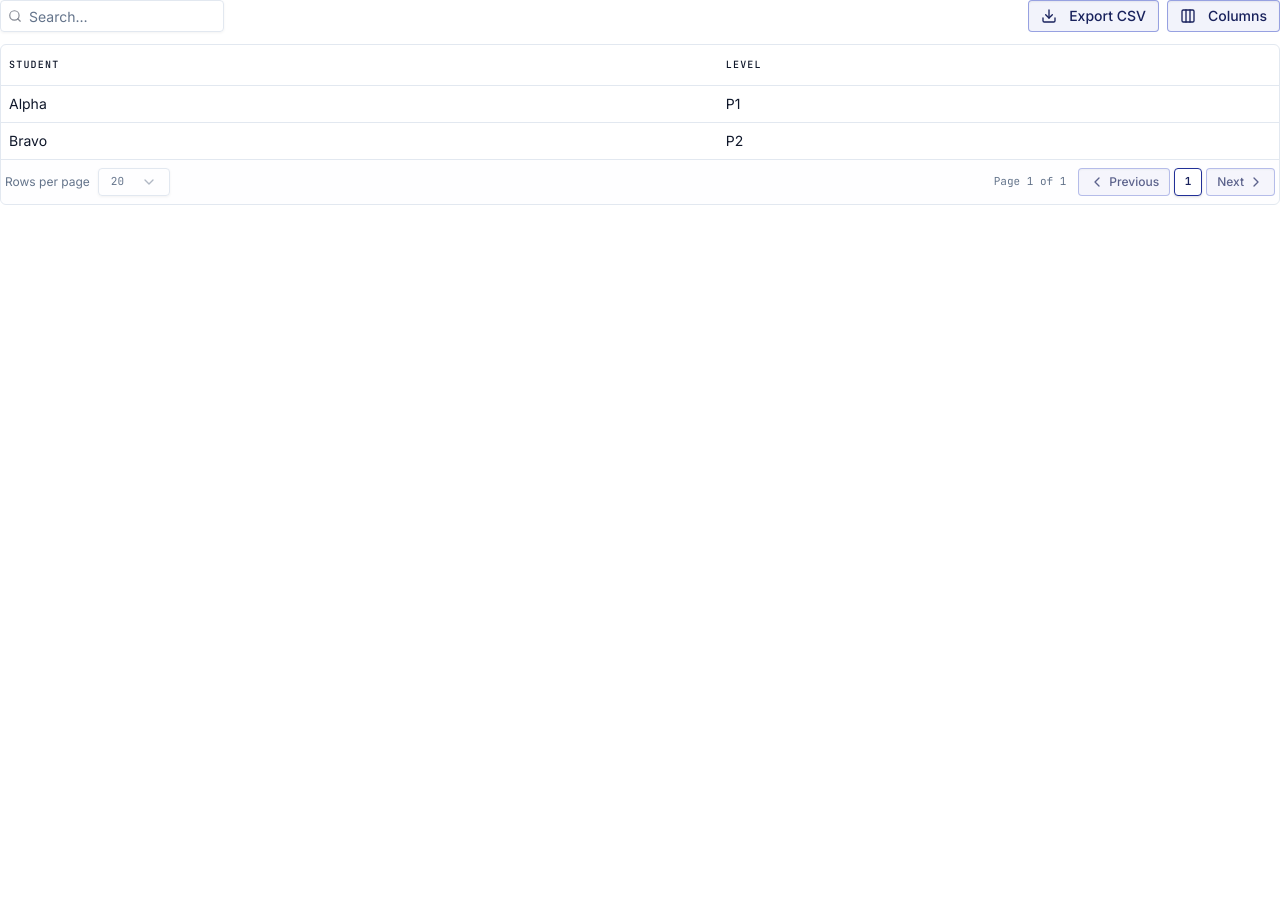
it: advanced export is opt-in › opens the preset radio sheet — not the advanced one — for raw columns without the flag
Click the button "Export CSV" at (1094, 16), box [1028,0,1159,32]
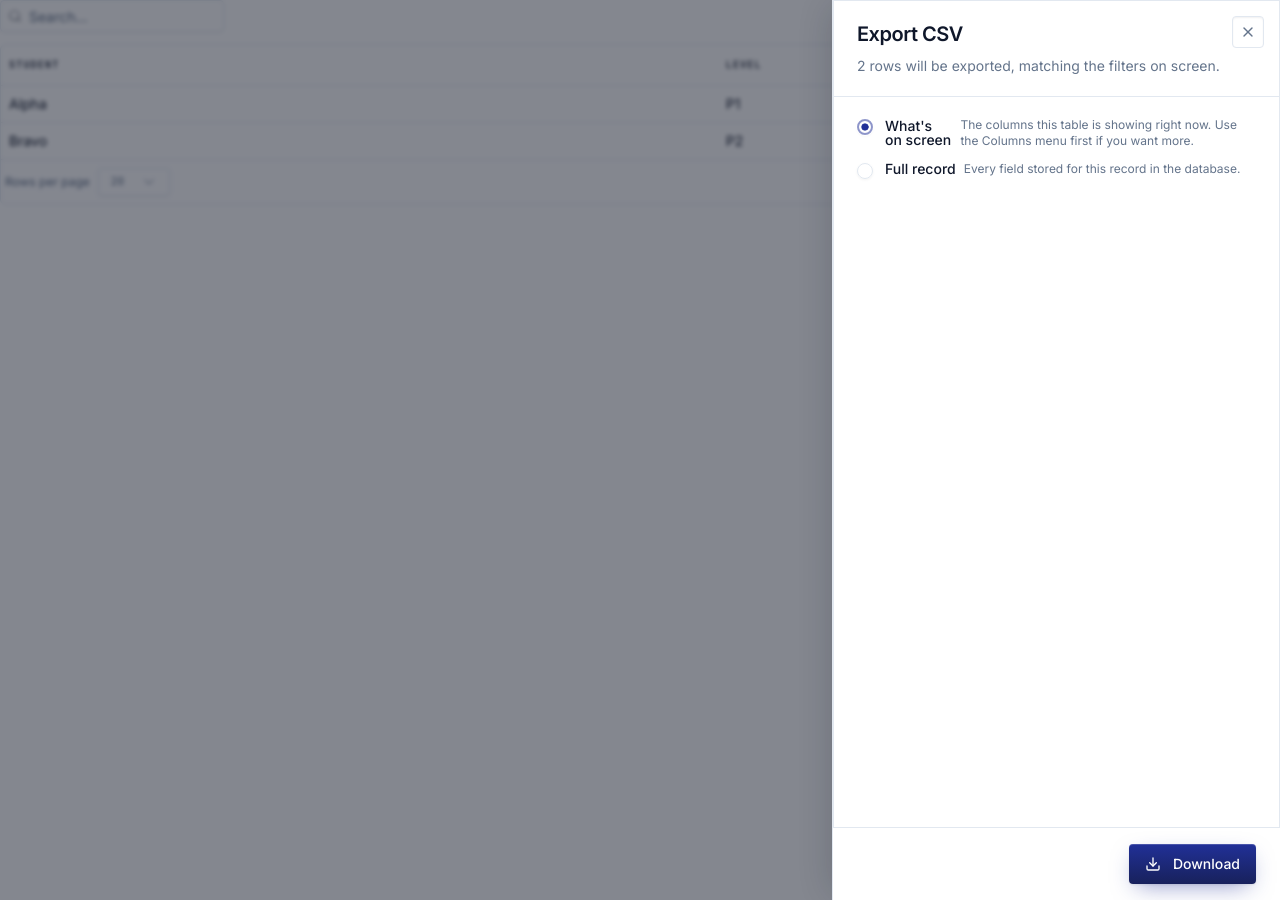
Now the text "What's on screen" is shown, box [885,119,952,147]
